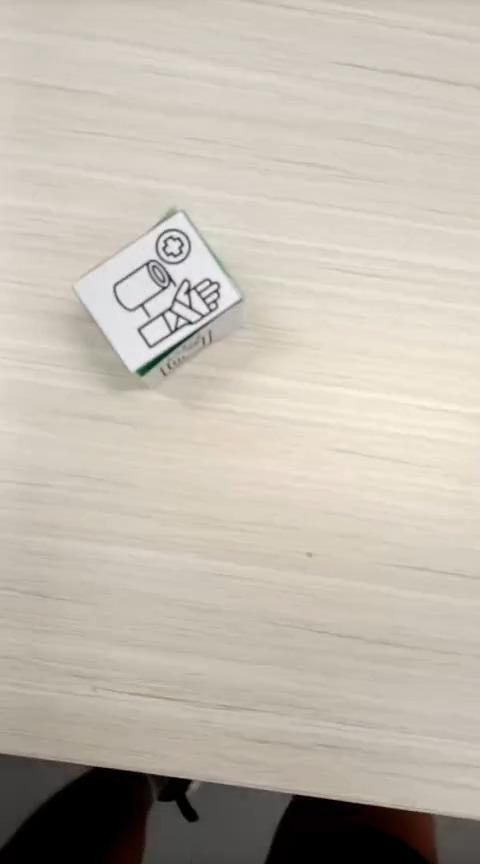Bandages: (71, 206, 244, 389)
